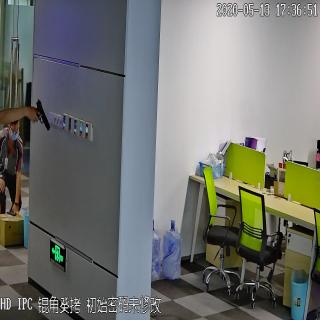gun: (29, 98, 51, 132)
